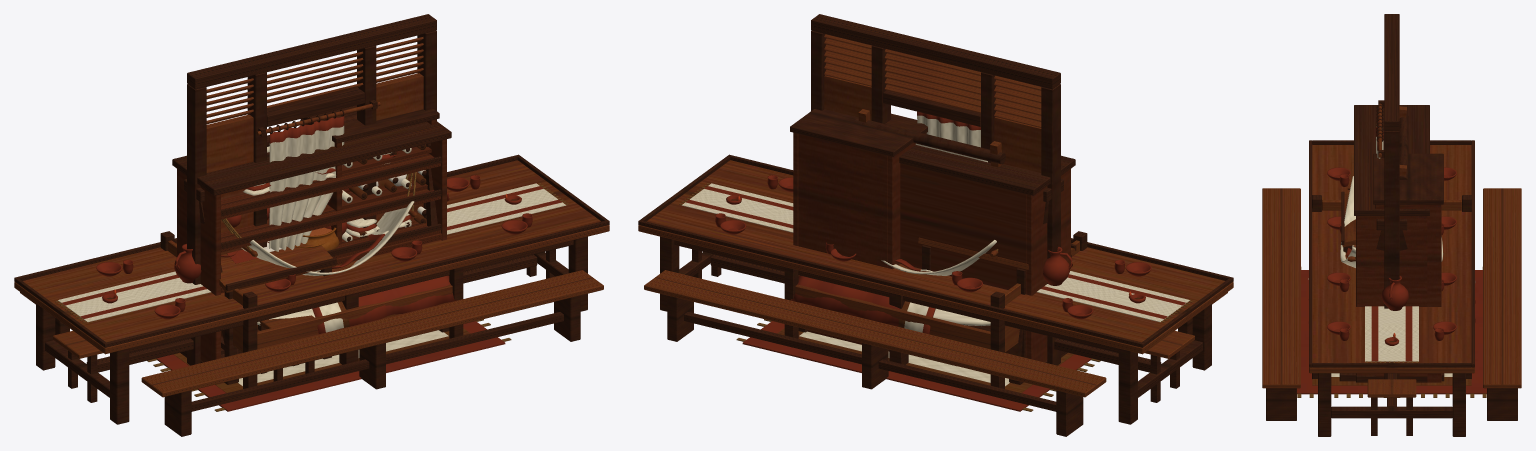
The model's file is ark_crew_quarters_kit.glb.
3 views of the same model, side by side, from view 1: azimuth 30°, elevation 25°; view 2: azimuth 150°, elevation 25°; view 3: azimuth 270°, elevation 25° (orthographic). The views are drawn at different scales.
Visible parts, largest first — view 1: ark_crew_dining_feast_table_LOD0, ark_crew_cabin_partition_LOD0, ark_crew_sideboard_cupboard_LOD0, ark_crew_study_desk_set_LOD0, ark_crew_family_bed_LOD0, ark_crew_carpet_LOD0, ark_crew_hammock_frame_LOD0; view 2: ark_crew_dining_feast_table_LOD0, ark_crew_cabin_partition_LOD0, ark_crew_sideboard_cupboard_LOD0, ark_crew_study_desk_set_LOD0, ark_crew_family_bed_LOD0, ark_crew_carpet_LOD0, ark_crew_weaving_loom_LOD0, ark_crew_hammock_frame_LOD0; view 3: ark_crew_dining_feast_table_LOD0, ark_crew_sideboard_cupboard_LOD0, ark_crew_study_desk_set_LOD0, ark_crew_cabin_partition_LOD0, ark_crew_carpet_LOD0, ark_crew_hammock_frame_LOD0, ark_crew_family_bed_LOD0, ark_crew_weaving_loom_LOD0.
Boxes of the visible parts, x1=… form: ark_crew_dining_feast_table_LOD0: x1=14, y1=154, x2=609, y2=436; ark_crew_cabin_partition_LOD0: x1=187, y1=14, x2=436, y2=365; ark_crew_sideboard_cupboard_LOD0: x1=172, y1=121, x2=451, y2=362; ark_crew_study_desk_set_LOD0: x1=219, y1=105, x2=439, y2=381; ark_crew_family_bed_LOD0: x1=160, y1=231, x2=463, y2=388; ark_crew_carpet_LOD0: x1=147, y1=319, x2=511, y2=411; ark_crew_hammock_frame_LOD0: x1=184, y1=143, x2=449, y2=384; ark_crew_dining_feast_table_LOD0: x1=638, y1=154, x2=1233, y2=436; ark_crew_cabin_partition_LOD0: x1=811, y1=14, x2=1060, y2=365; ark_crew_sideboard_cupboard_LOD0: x1=899, y1=145, x2=1075, y2=362; ark_crew_study_desk_set_LOD0: x1=790, y1=109, x2=1076, y2=357; ark_crew_family_bed_LOD0: x1=784, y1=231, x2=1087, y2=388; ark_crew_carpet_LOD0: x1=736, y1=319, x2=1100, y2=411; ark_crew_weaving_loom_LOD0: x1=854, y1=109, x2=1005, y2=167; ark_crew_hammock_frame_LOD0: x1=798, y1=179, x2=1063, y2=384; ark_crew_dining_feast_table_LOD0: x1=1262, y1=140, x2=1521, y2=436; ark_crew_sideboard_cupboard_LOD0: x1=1354, y1=105, x2=1429, y2=382; ark_crew_study_desk_set_LOD0: x1=1341, y1=153, x2=1443, y2=382; ark_crew_cabin_partition_LOD0: x1=1376, y1=14, x2=1399, y2=379; ark_crew_carpet_LOD0: x1=1297, y1=267, x2=1486, y2=397; ark_crew_hammock_frame_LOD0: x1=1339, y1=176, x2=1444, y2=381; ark_crew_family_bed_LOD0: x1=1308, y1=195, x2=1475, y2=378; ark_crew_weaving_loom_LOD0: x1=1399, y1=106, x2=1408, y2=179.
Size of what is drawn, in the model's own units: 4.8 by 2.65 by 2.35.
Materials: 1 (1 with a texture image).
